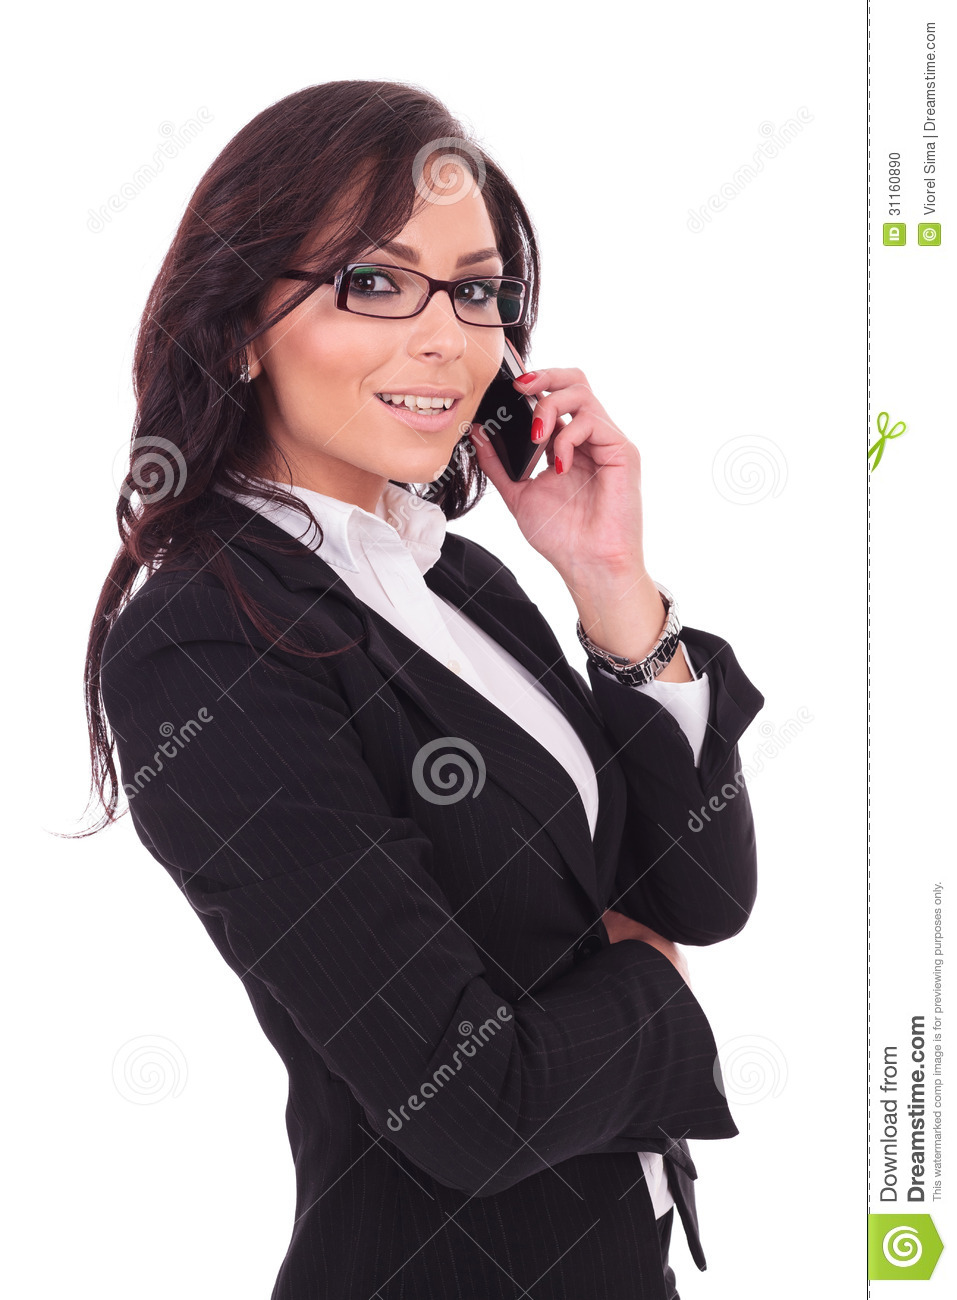phone: (476, 344, 556, 485)
talk: (332, 233, 648, 580)
